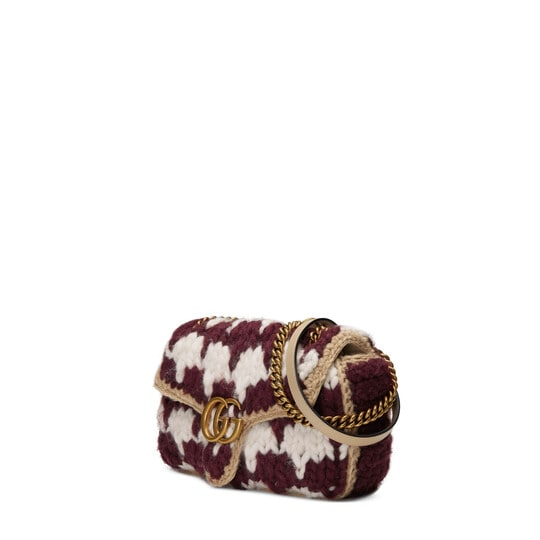Gucci: (155, 312, 398, 497), (195, 385, 245, 441)
